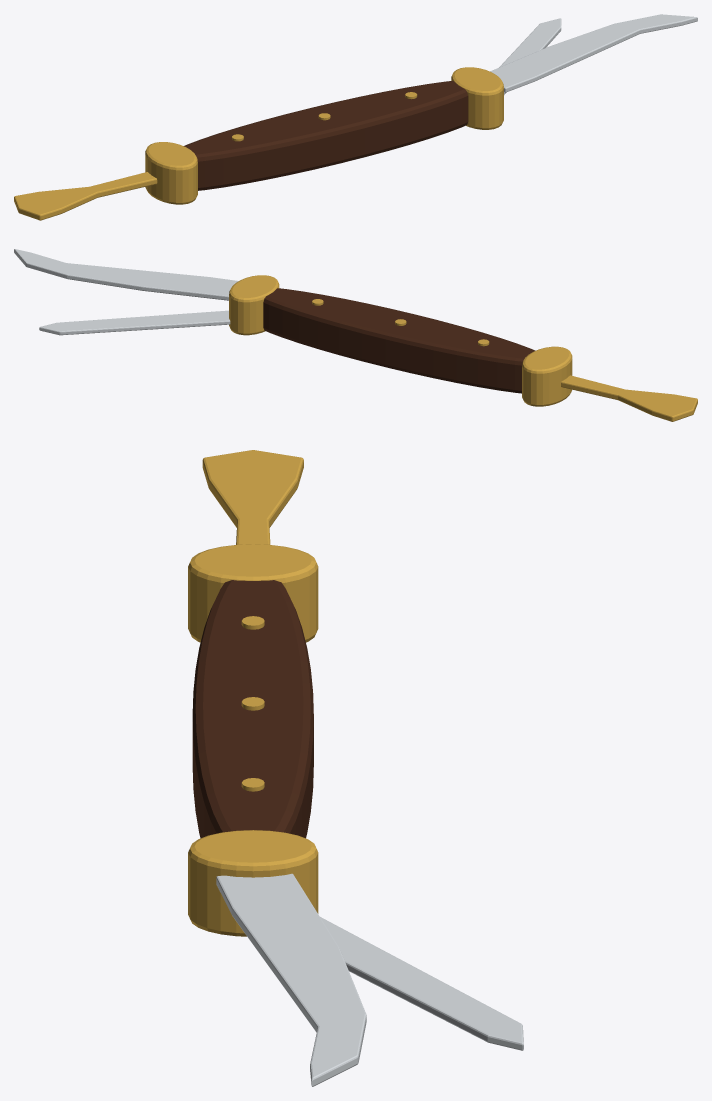
Rendered from item-2.glb.
3 renders of one model, top to bottom at view 1: azimuth 30°, elevation 25°; view 2: azimuth 150°, elevation 25°; view 3: azimuth 270°, elevation 25°, orthographic. The views are drawn at different scales.
Visible parts, largest first — view 1: handle, hawkbill, bolster.001, spatula, bolster, budding; view 2: handle, hawkbill, bolster.001, budding, spatula, bolster; view 3: handle, hawkbill, bolster, bolster.001, budding, spatula.
Part boxes in pixels (bbox=[...]): handle: bbox=[184, 81, 468, 190]; hawkbill: bbox=[490, 14, 697, 92]; bolster.001: bbox=[145, 142, 197, 204]; spatula: bbox=[14, 172, 157, 220]; bolster: bbox=[451, 67, 503, 129]; budding: bbox=[499, 18, 561, 94]; handle: bbox=[263, 288, 535, 393]; hawkbill: bbox=[14, 249, 238, 300]; bolster.001: bbox=[522, 346, 572, 406]; budding: bbox=[39, 310, 230, 335]; spatula: bbox=[561, 375, 697, 421]; bolster: bbox=[229, 275, 279, 335]; handle: bbox=[192, 580, 313, 838]; hawkbill: bbox=[216, 873, 366, 1086]; bolster: bbox=[188, 830, 318, 936]; bolster.001: bbox=[188, 544, 318, 642]; budding: bbox=[320, 917, 523, 1050]; spatula: bbox=[202, 450, 303, 544].
Bounding box in the file's own units: 0.2405 × 0.0134 × 0.0526.
